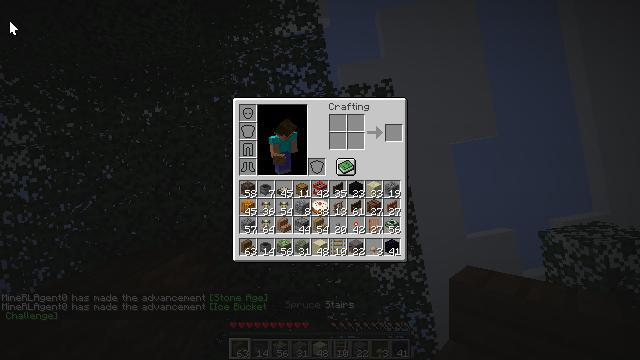cursor: (9, 20, 19, 36)
